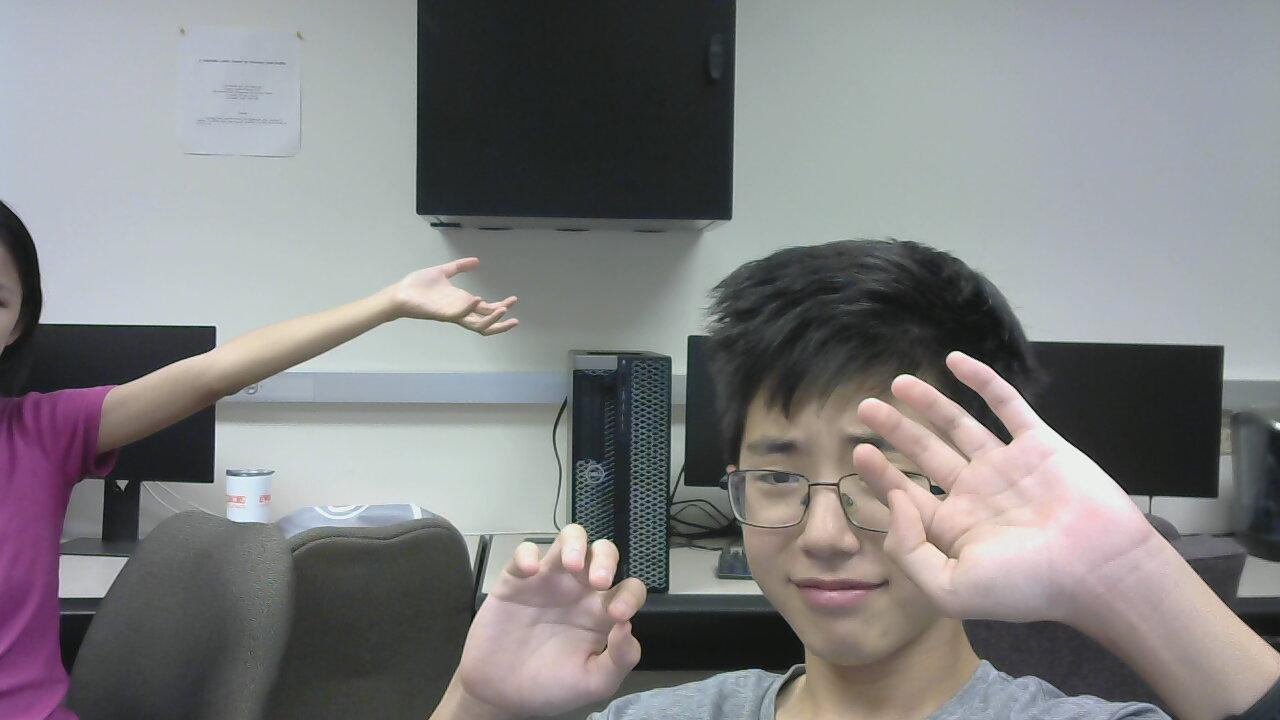hands: (833, 323, 1151, 638), (449, 519, 658, 709), (389, 256, 535, 341)
